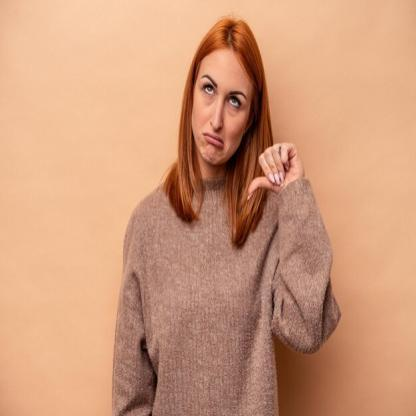thumb_down: (245, 138, 304, 210)
